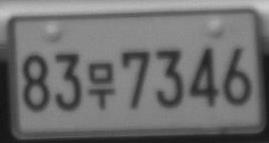3: (54, 52, 82, 111), (155, 49, 183, 108)
4: (189, 47, 219, 107)
6: (222, 47, 251, 106)
7: (121, 50, 150, 110)
8: (21, 54, 50, 111)
무: (87, 62, 115, 110)
